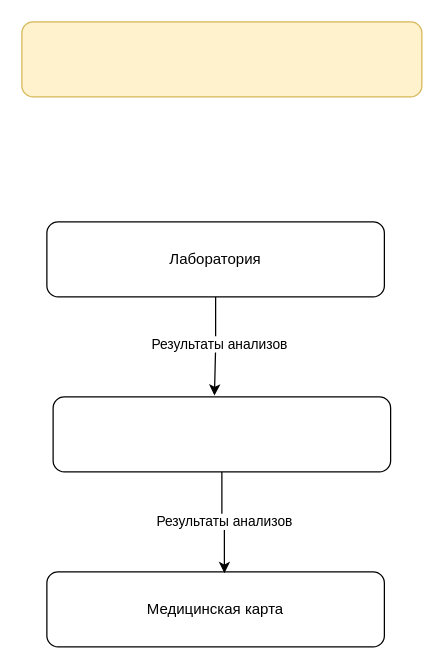
This 444x669 diagram has some shape labels left out. Here are the shapes that lost their labels. From the top down, the centre of each, then its label:
point (221, 59): Обработка результатов анализов
point (221, 434): Скан/PDF
